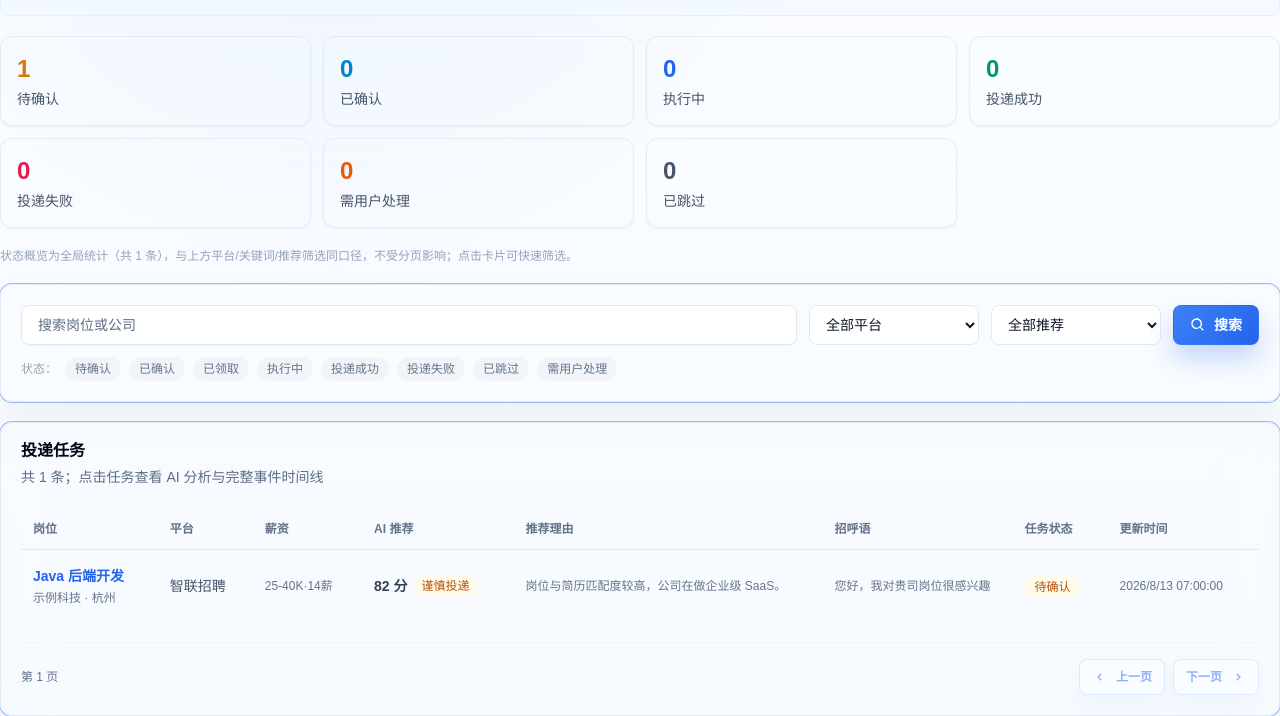
Scenario: 第六轮投递清单（P6 确认闭环） › 智联任务招呼语禁用且不发送 greeting API
(page scrolled)
Click the button "Java 后端开发" at (78, 576), box [33,566,124,586]
(page scrolled)
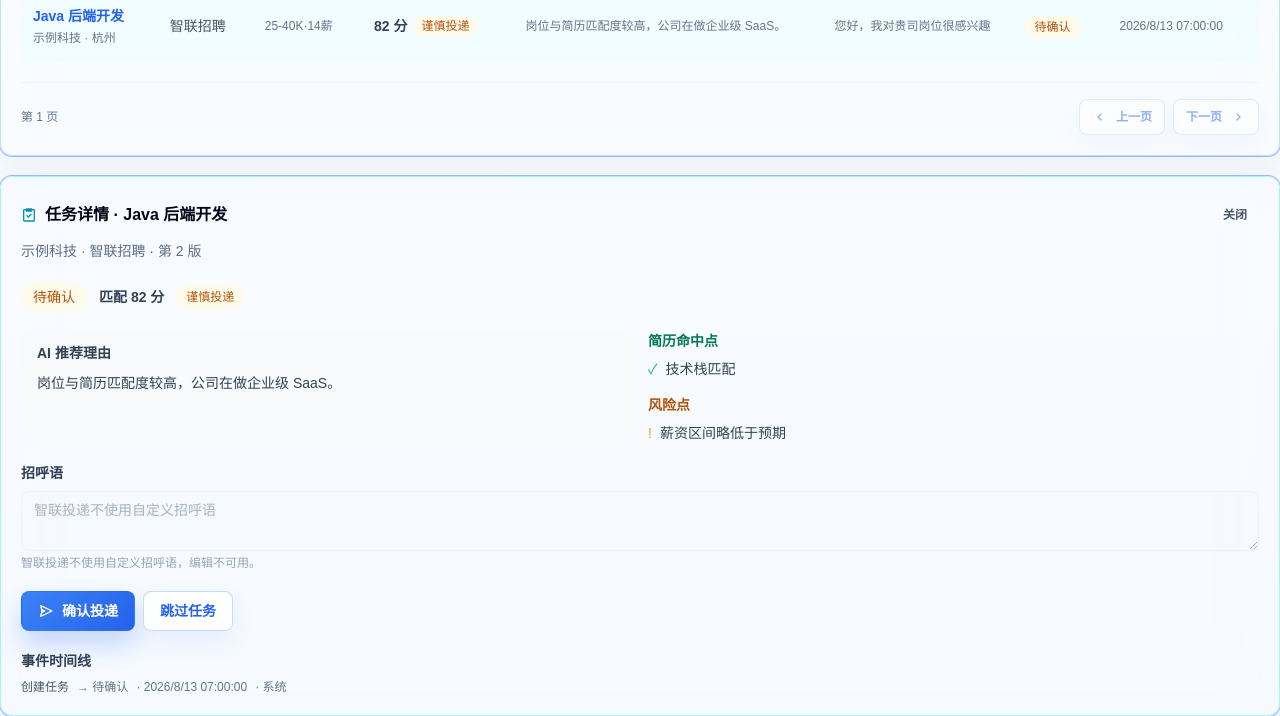
Check: the text "智联投递不使用自定义招呼语，编辑不可用。" is shown, box [21,556,261,570]
Check: the text box labelled "招呼语" is disabled, box [21,491,1259,551]
